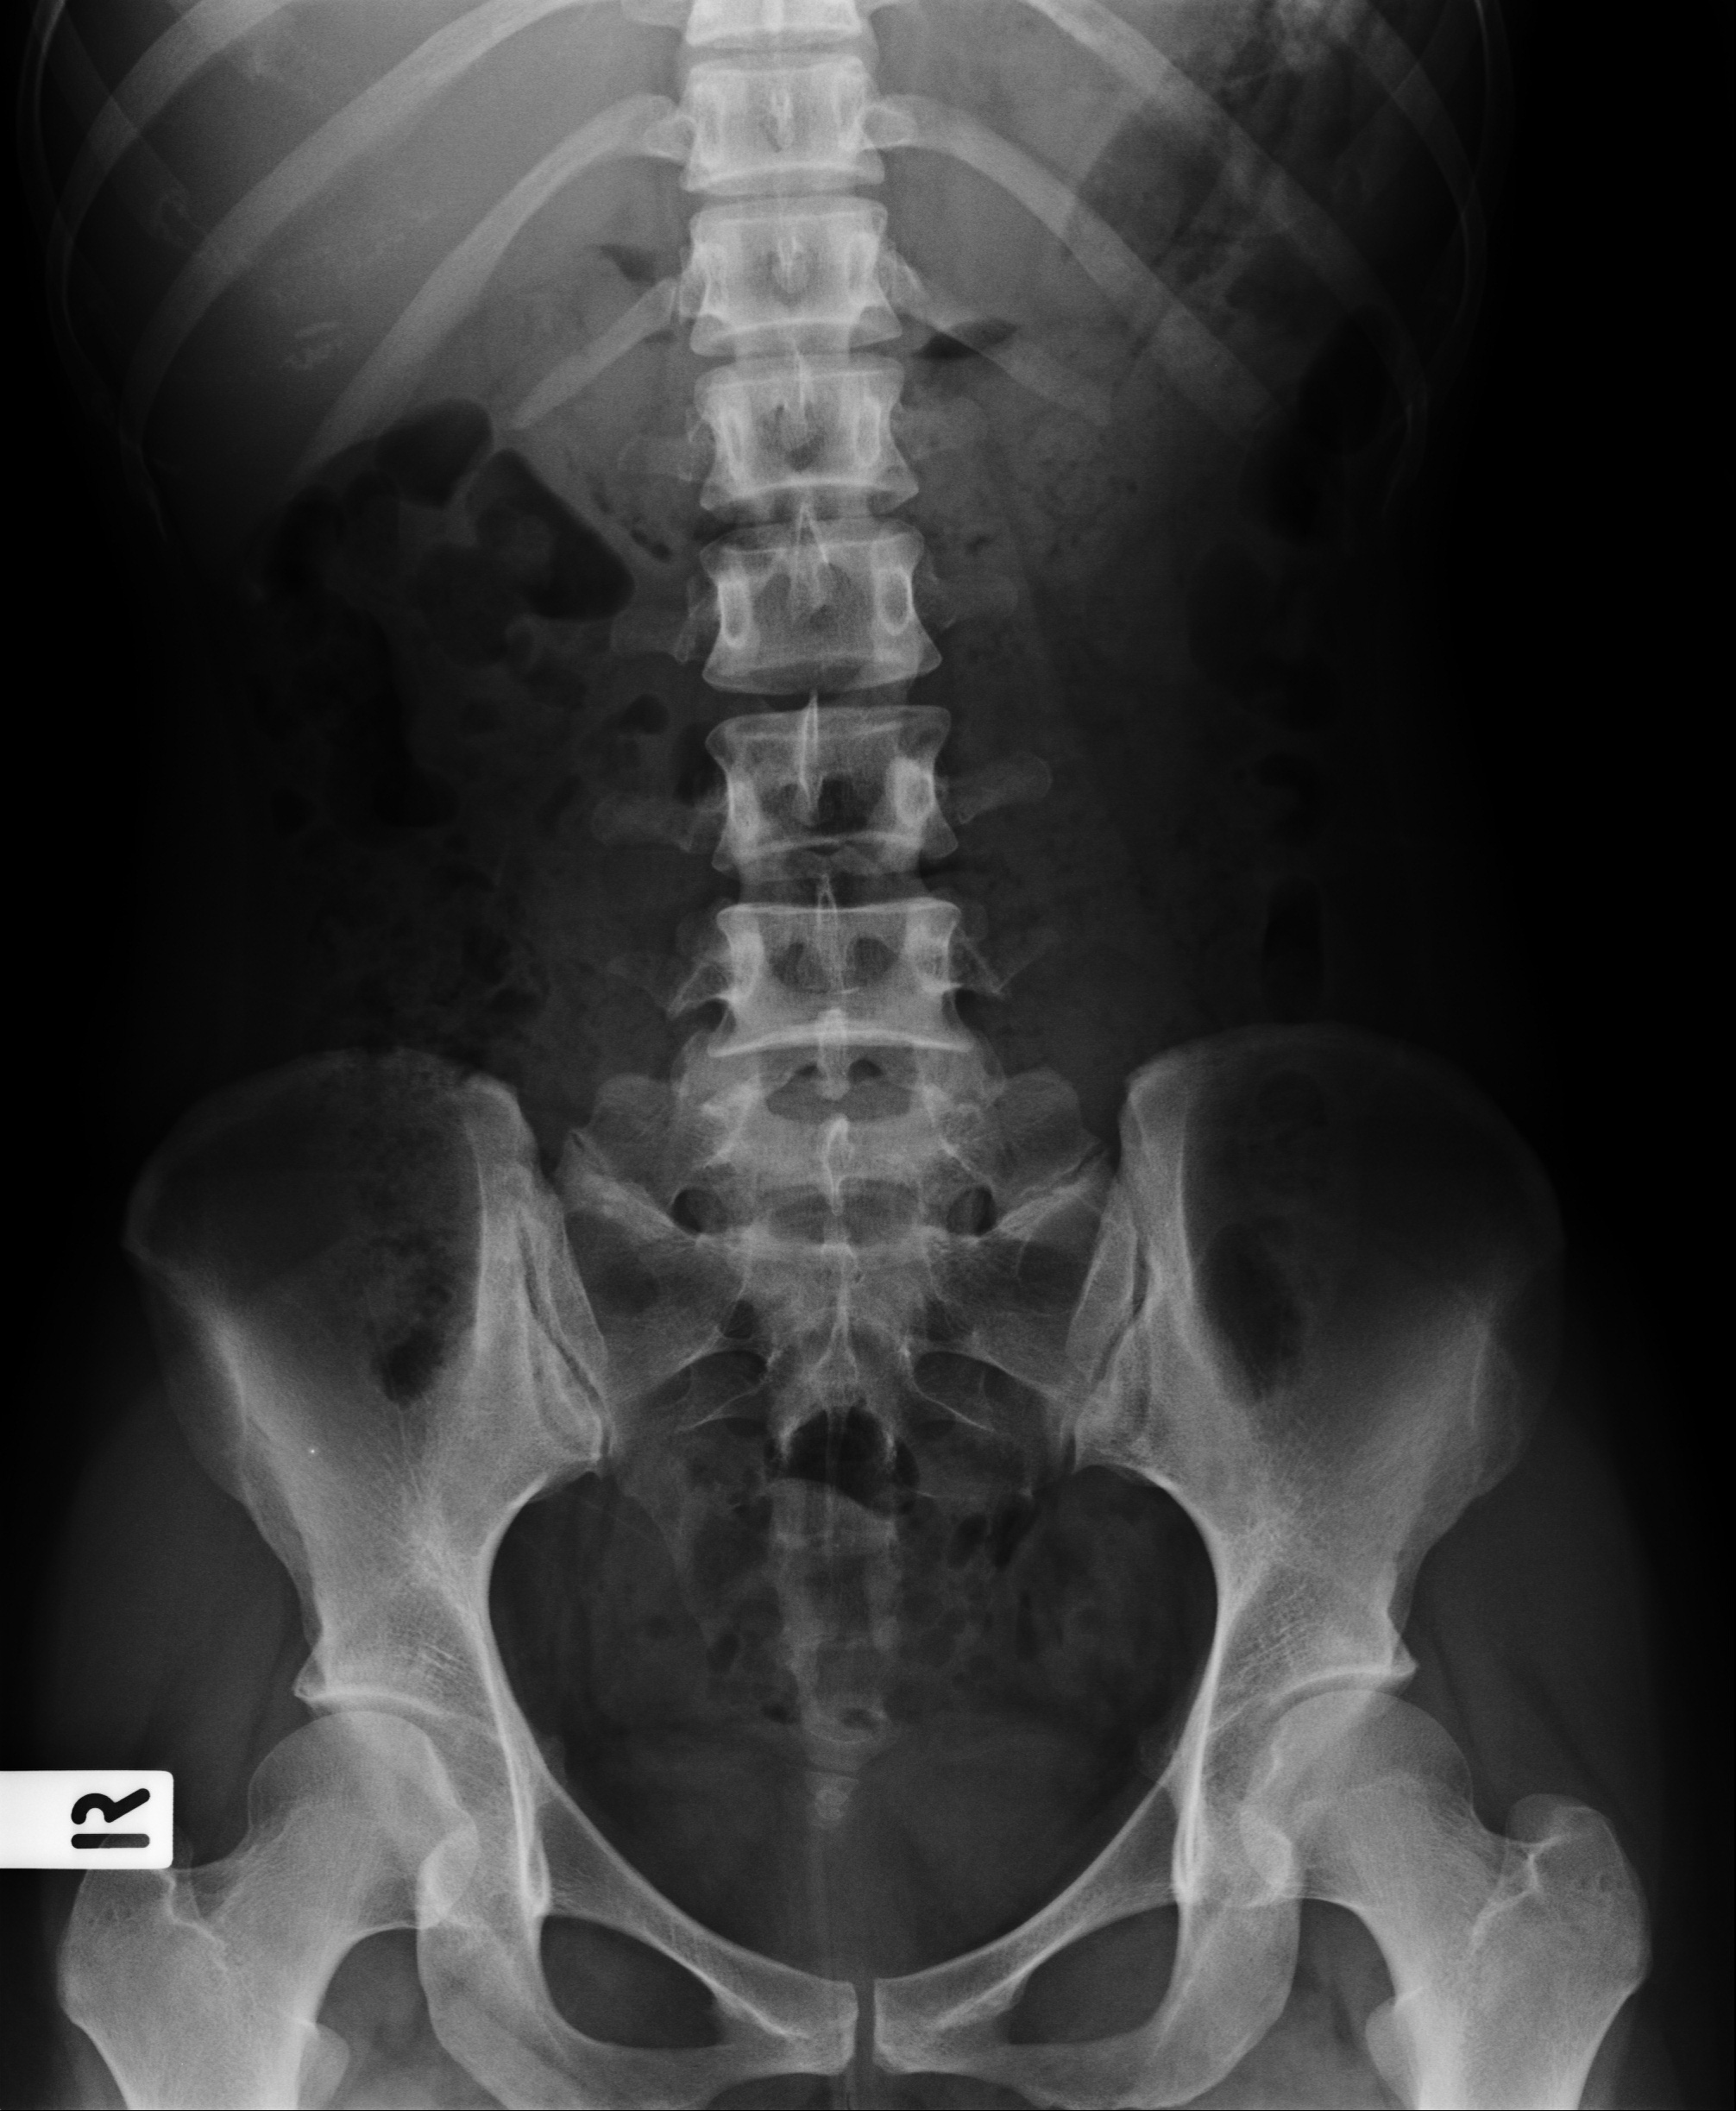lumbar scoliosis: (672, 21, 989, 1208)
